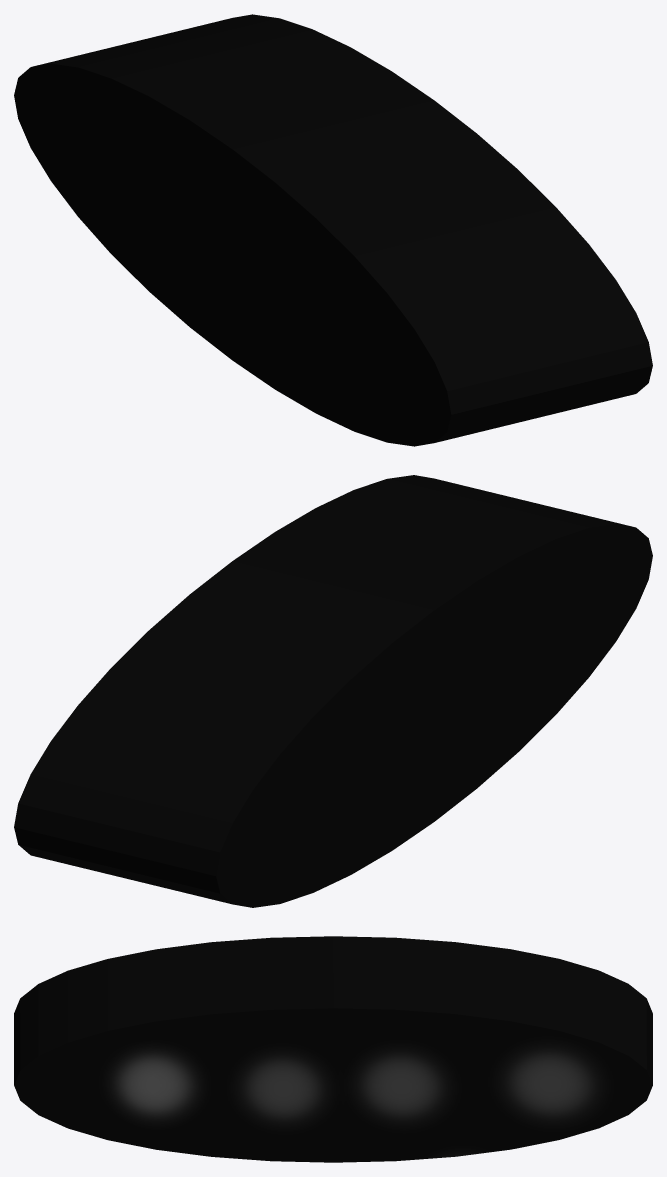
3 renders of one model, top to bottom at view 1: azimuth 30°, elevation 25°; view 2: azimuth 150°, elevation 25°; view 3: azimuth 270°, elevation 25°, orthographic. The views are drawn at different scales.
Visible parts, largest first — view 1: 円柱.002_円柱.003; view 2: 円柱.002_円柱.003; view 3: 円柱.002_円柱.003.
Boxes of the visible parts, box(x1,y1,x2,y2) form: 円柱.002_円柱.003: box(14, 14, 652, 446); 円柱.002_円柱.003: box(14, 475, 652, 907); 円柱.002_円柱.003: box(14, 936, 652, 1162).
Bounding box in the file's own units: 0.8026 × 0.8005 × 3.
1 material, 1 textured.
